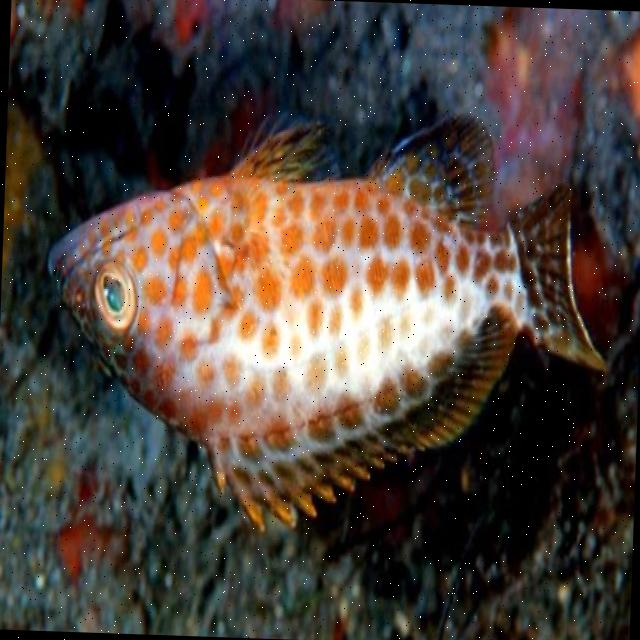ikan: (36, 94, 616, 548)
